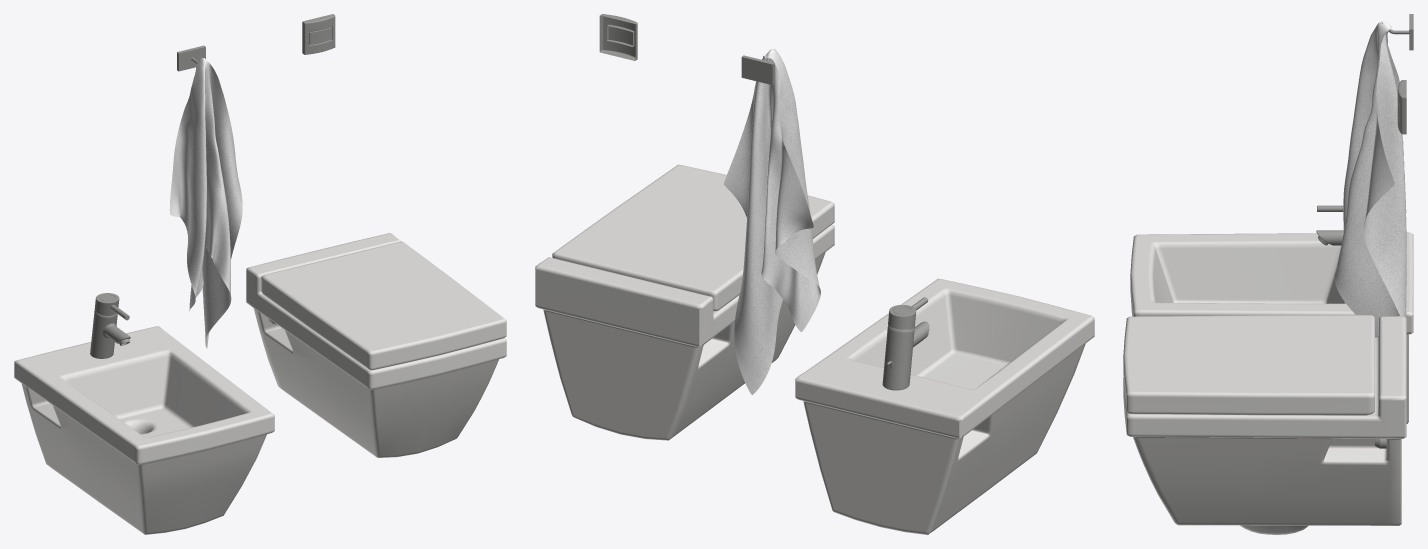
The model's file is A23DMOD_FBX.fbx.
The picture shows the model from 3 angles, left to right: view 1: azimuth 30°, elevation 25°; view 2: azimuth 150°, elevation 25°; view 3: azimuth 270°, elevation 25°; orthographic projection. The views are drawn at different scales.
Parts seen in each view (by area): view 1: A23DOBJ_002, A23DOBJ_003, A23DOBJ_004, A23DOBJ_001; view 2: A23DOBJ_003, A23DOBJ_002, A23DOBJ_004, A23DOBJ_001, A23DOBJ_005; view 3: A23DOBJ_002, A23DOBJ_003, A23DOBJ_004, A23DOBJ_001.
Boxes of the visible parts, left/top/right/bottom form: A23DOBJ_002: left=246, top=233, right=506, bottom=457; A23DOBJ_003: left=14, top=293, right=274, bottom=534; A23DOBJ_004: left=169, top=58, right=242, bottom=348; A23DOBJ_001: left=302, top=14, right=335, bottom=54; A23DOBJ_003: left=795, top=278, right=1094, bottom=534; A23DOBJ_002: left=535, top=164, right=834, bottom=440; A23DOBJ_004: left=724, top=49, right=820, bottom=394; A23DOBJ_001: left=599, top=14, right=637, bottom=60; A23DOBJ_005: left=741, top=55, right=774, bottom=85; A23DOBJ_002: left=1123, top=315, right=1406, bottom=534; A23DOBJ_003: left=1130, top=205, right=1413, bottom=423; A23DOBJ_004: left=1334, top=21, right=1406, bottom=348; A23DOBJ_001: left=1397, top=80, right=1406, bottom=134.
Size of the model in its own units: 95.24 by 93.66 by 55.33.
Materials: 3 (3 with a texture image).
